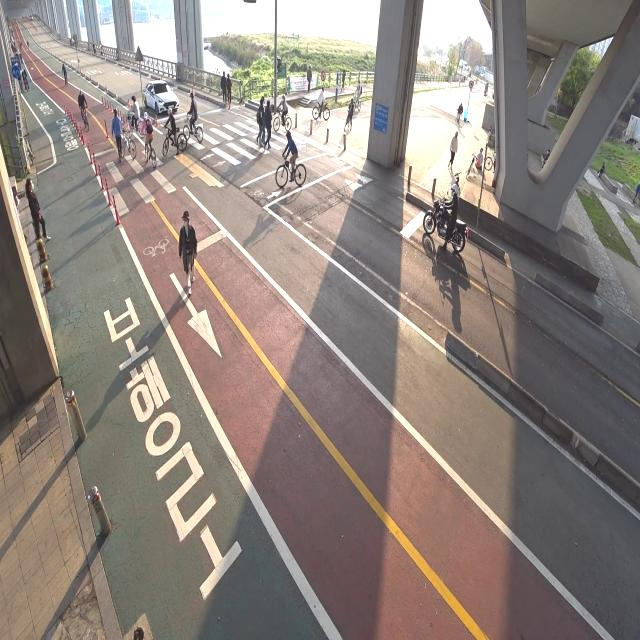Motorcycle: (424, 180, 469, 253)
